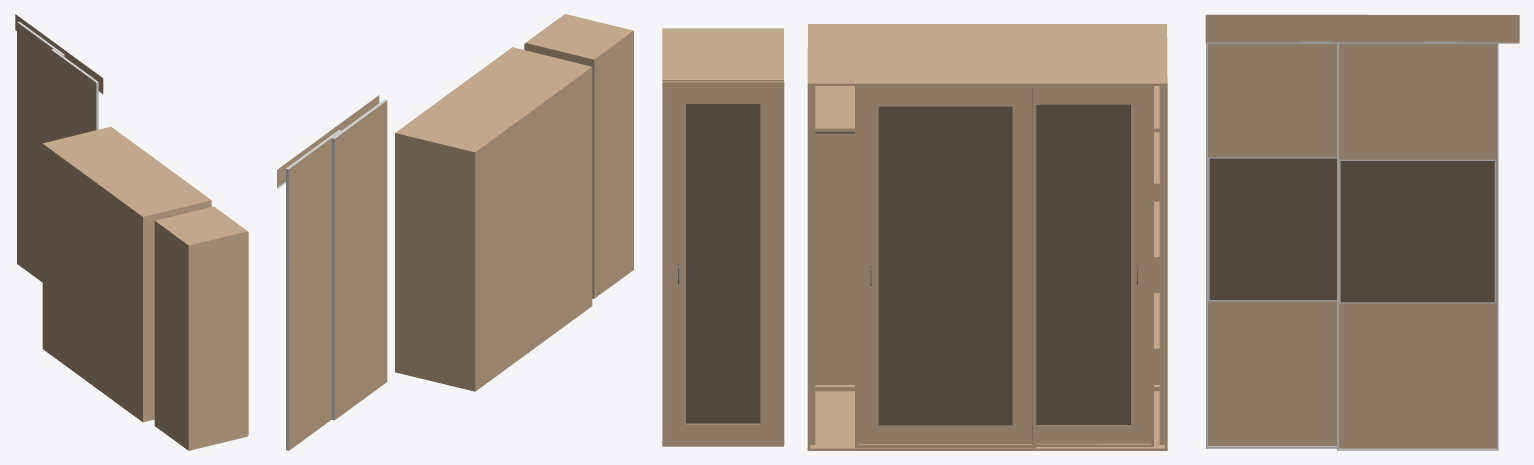
Rendered from wardrobes.fbx.
3 renders of one model, left to right at view 1: azimuth 30°, elevation 25°; view 2: azimuth 150°, elevation 25°; view 3: azimuth 270°, elevation 25°, orthographic. The views are drawn at different scales.
Visible parts, largest first — view 1: sliding wardrobe, Wardrobe, Sliding door; view 2: sliding wardrobe, Sliding door, Wardrobe; view 3: sliding wardrobe, Sliding door, Wardrobe.
Boxes of the visible parts, x1,y1,x2,y2 form: sliding wardrobe: [42, 126, 211, 422]; Wardrobe: [154, 206, 248, 450]; Sliding door: [14, 14, 103, 282]; sliding wardrobe: [395, 47, 592, 391]; Sliding door: [277, 95, 387, 450]; Wardrobe: [524, 14, 633, 298]; sliding wardrobe: [807, 24, 1167, 450]; Sliding door: [1205, 14, 1519, 450]; Wardrobe: [662, 28, 784, 446].
Size of what is drawn, in the model's own units: 73.02 by 239 by 424.
